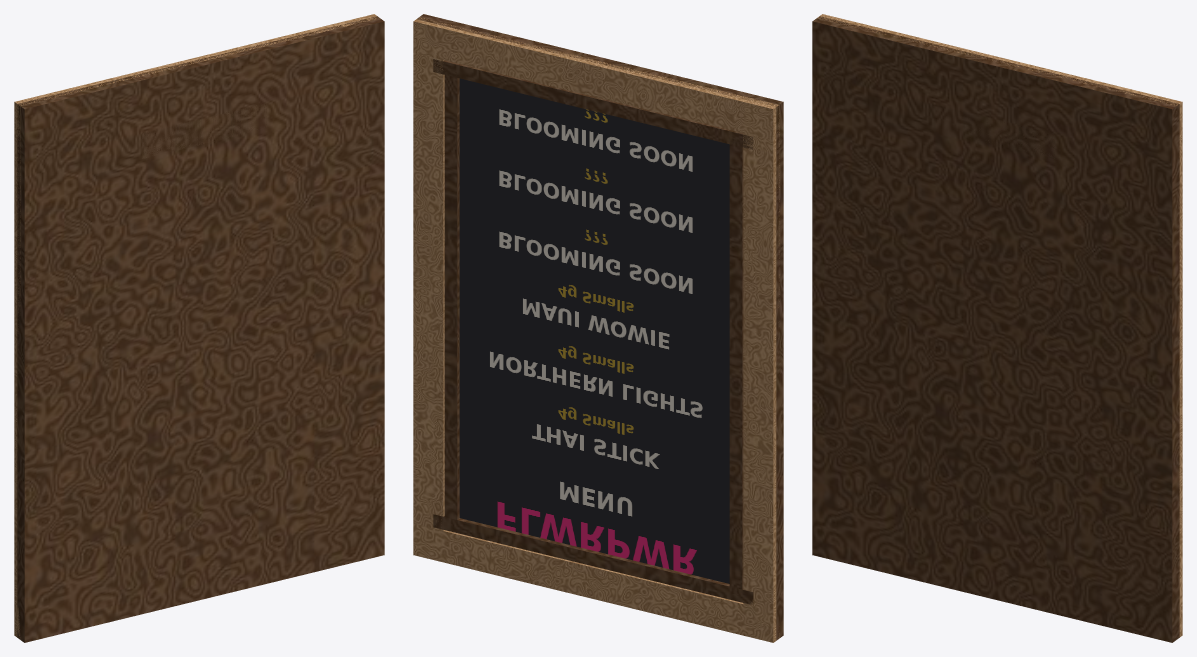
The model's file is menu_board.glb.
3 renders of one model, left to right at view 1: azimuth 30°, elevation 25°; view 2: azimuth 150°, elevation 25°; view 3: azimuth 330°, elevation 25°, orthographic.
Parts seen in each view (by area): view 1: menu_hd_darkwood, menu_hd_oak; view 2: menu_hd_menutex, menu_hd_oak, menu_hd_darkwood; view 3: menu_hd_darkwood, menu_hd_oak.
Boxes of the visible parts, left/top/right/bottom form: menu_hd_darkwood: left=17, top=16, right=384, bottom=642; menu_hd_oak: left=14, top=14, right=379, bottom=637; menu_hd_menutex: left=459, top=78, right=729, bottom=583; menu_hd_oak: left=413, top=17, right=779, bottom=642; menu_hd_darkwood: left=416, top=14, right=783, bottom=640; menu_hd_darkwood: left=812, top=16, right=1179, bottom=642; menu_hd_oak: left=817, top=14, right=1182, bottom=637.
Size of the model in its own units: 1.44 by 2.04 by 0.07.
4 materials, 3 textured.
